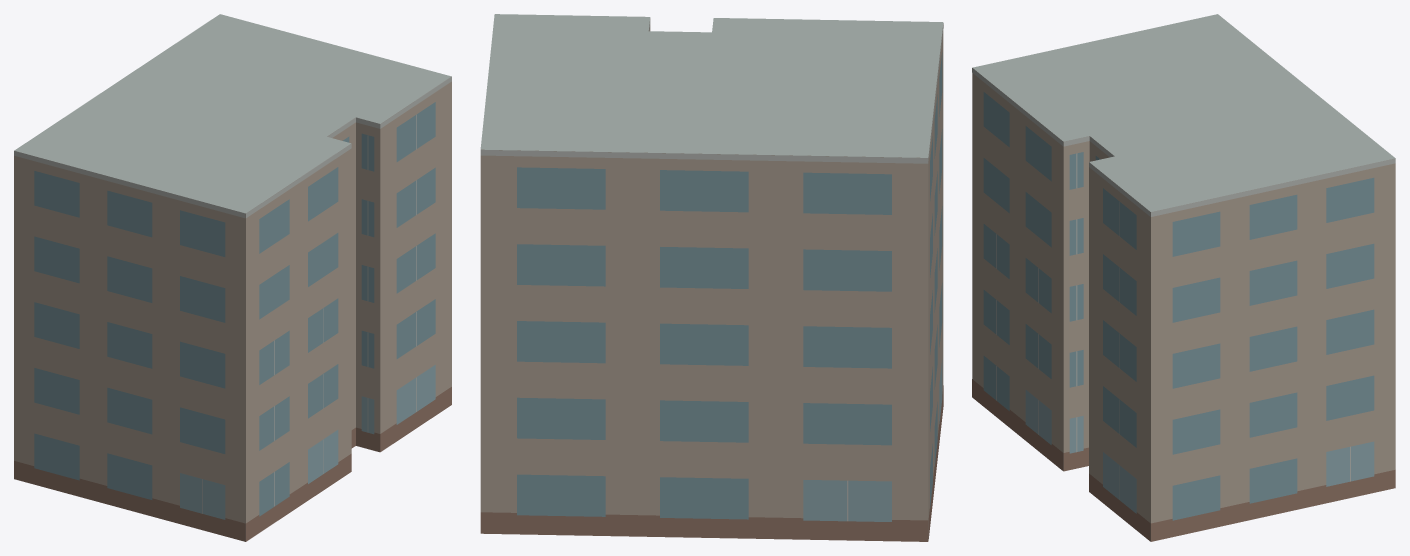
File: survey-upis-32837124.glb
The picture shows the model from 3 angles, left to right: view 1: azimuth 30°, elevation 25°; view 2: azimuth 150°, elevation 25°; view 3: azimuth 270°, elevation 25°; orthographic projection. The views are drawn at different scales.
Visible parts, largest first — view 1: survey-upis-32837124.tmp; view 2: survey-upis-32837124.tmp; view 3: survey-upis-32837124.tmp.
Boxes of the visible parts, x1,y1,x2,y2 form: survey-upis-32837124.tmp: [14, 14, 451, 541]; survey-upis-32837124.tmp: [480, 14, 943, 541]; survey-upis-32837124.tmp: [972, 14, 1395, 541].
Bounding box in the file's own units: 20.76 × 16.1 × 18.75.
